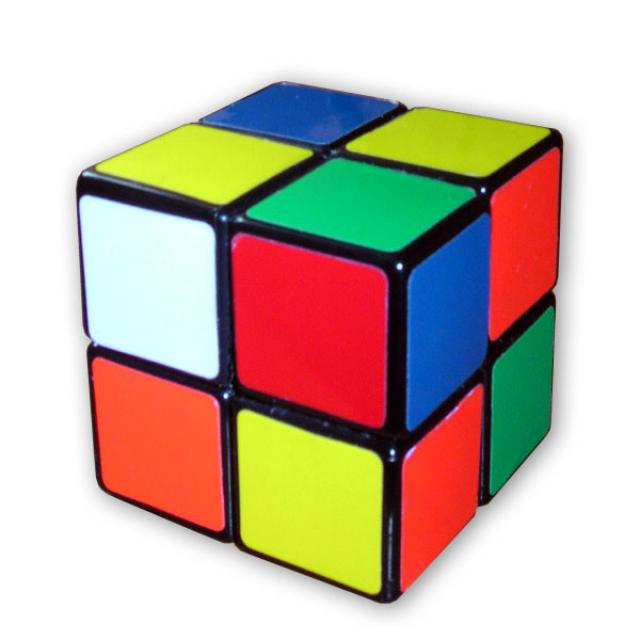cube: (78, 81, 555, 604)
